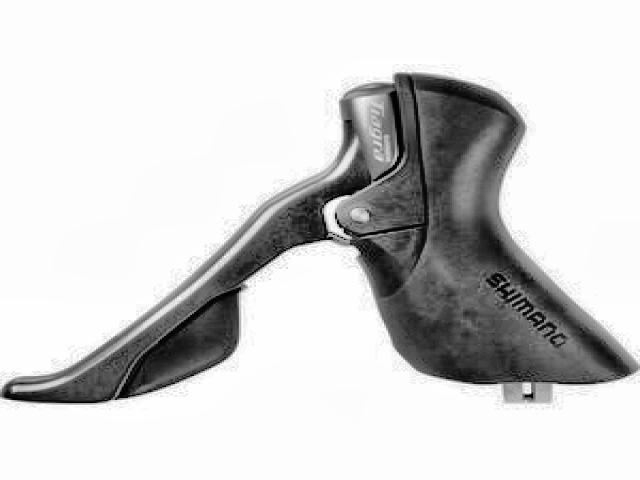sti_shifter: (0, 64, 637, 407)
